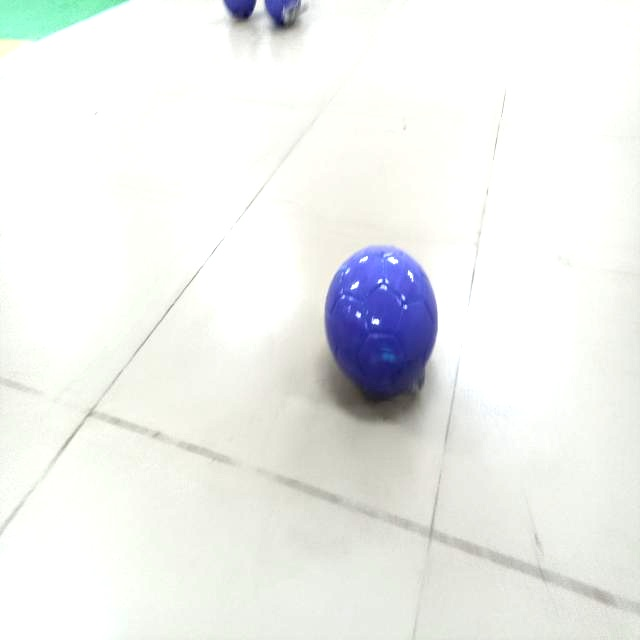purple_ball: (327, 244, 443, 396), (263, 0, 302, 27), (224, 0, 256, 19)
